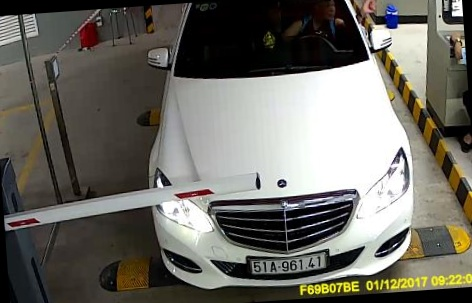plate: (241, 249, 339, 278)
